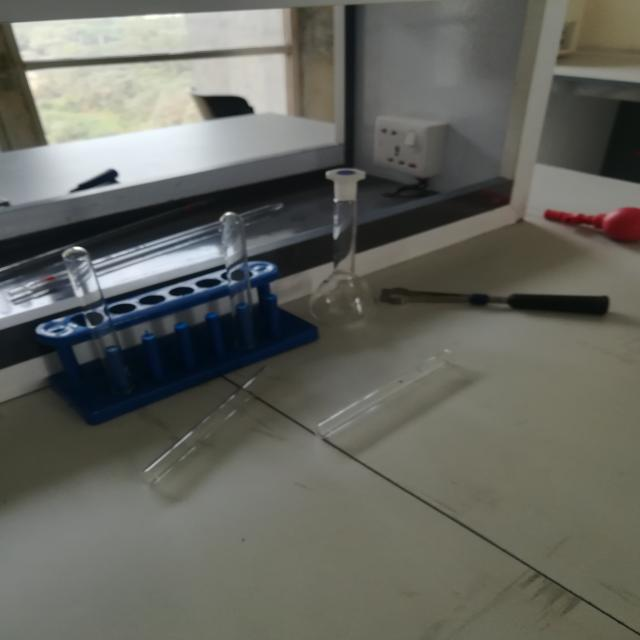TestTube_Holder: (372, 266, 622, 332)
Test_Tube: (28, 220, 162, 416), (129, 346, 291, 502), (304, 342, 493, 468), (196, 192, 273, 388)
Volumetric_Flask: (282, 155, 377, 341)
